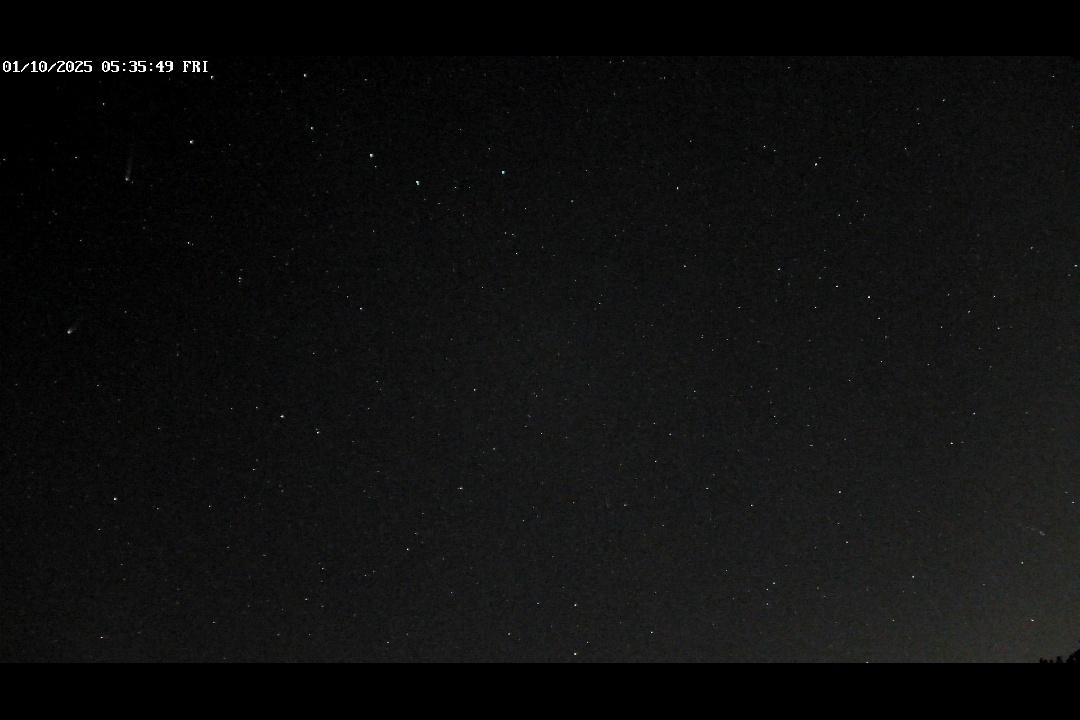Plane: (1020, 522, 1058, 544), (122, 152, 136, 184), (65, 319, 81, 336)
